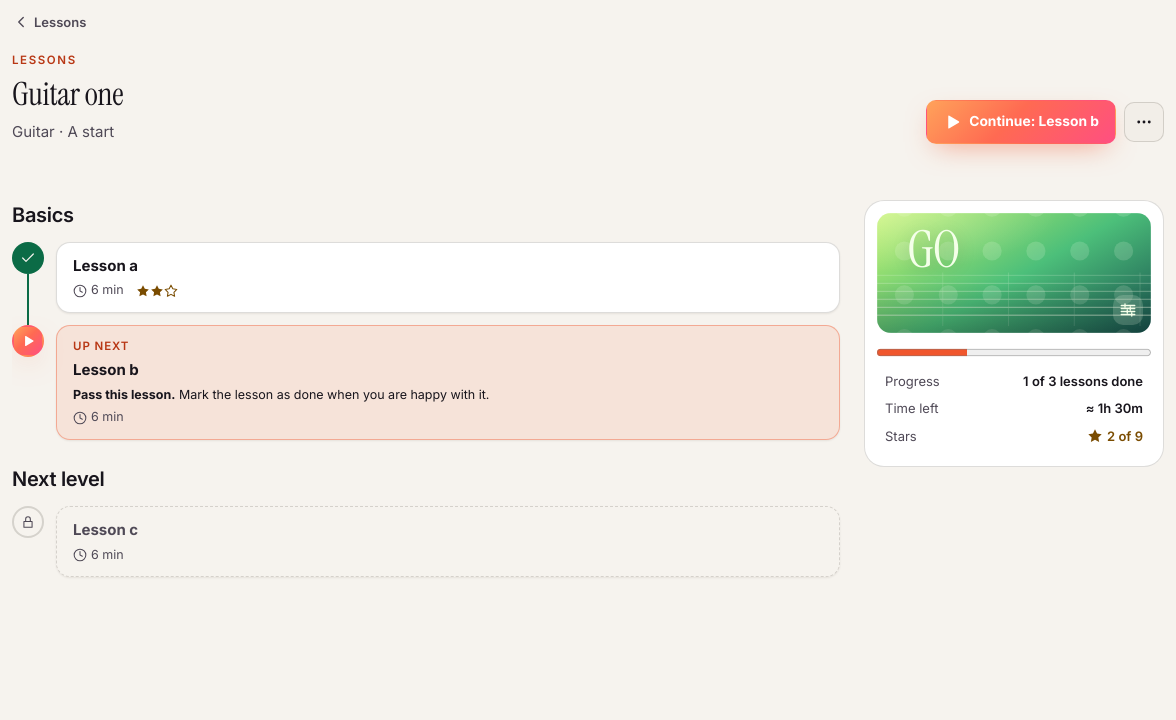
Test: CourseView › cannot delete a built-in course
The width and height of the screenshot is (1176, 720).
Step 1. Click the button with test id "course-admin" → (1144, 122), box top-left (1124, 102), bottom-right (1164, 142)
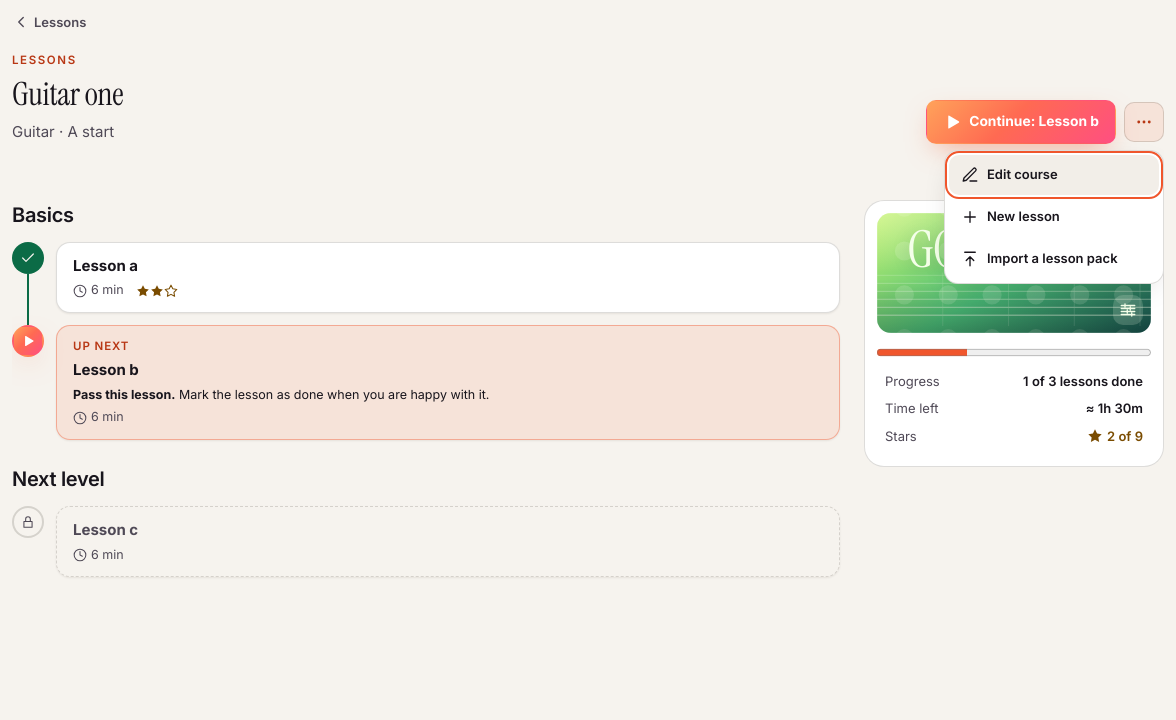
Now the menu item with test id "course-edit" is shown, box top-left (949, 155), bottom-right (1159, 195)
